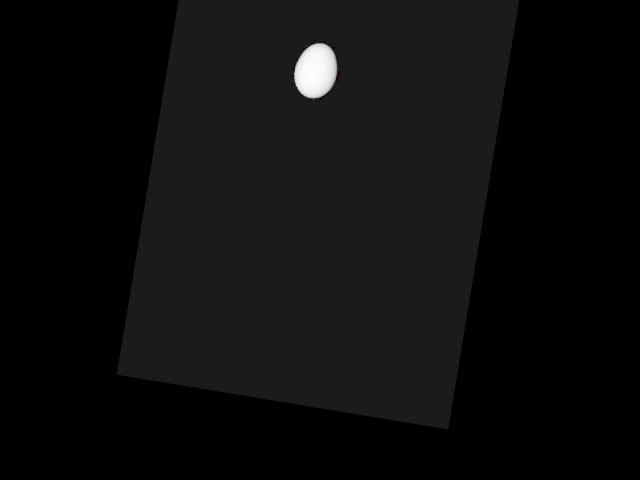egg: (291, 40, 340, 102)
